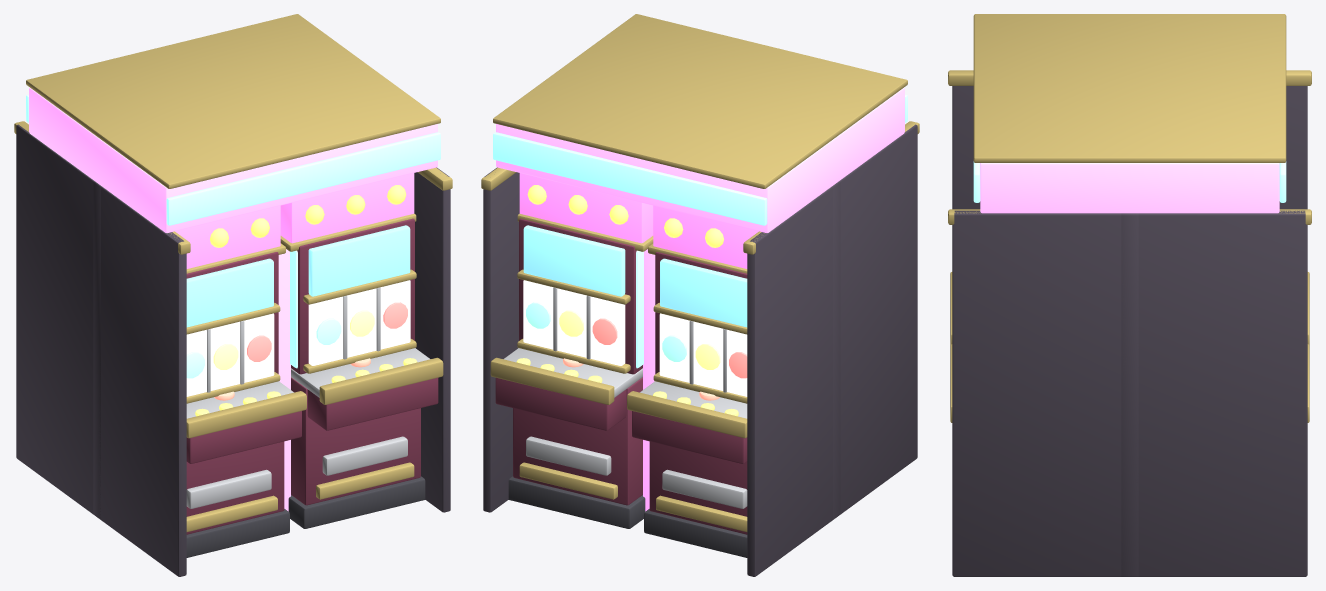
File: th14_automatenreihe.glb
3 views of the same model, side by side, from view 1: azimuth 30°, elevation 25°; view 2: azimuth 150°, elevation 25°; view 3: azimuth 270°, elevation 25° (orthographic). The views are drawn at different scales.
Parts seen in each view (by area): view 1: Cube.079, Cube.092, Cube.089, Cube.084, Cube.090, Cube.059, Cube.073, Cube.075, Cube.068, Cube.035, Cube.021, Cube.030 (+24 smaller); view 2: Cube.079, Cube.092, Cube.089, Cube.084, Cube.091, Cube.040, Cube.054, Cube.056, Cube.049, Cube.016, Cube.002, Cube.011 (+24 smaller); view 3: Cube.084, Cube.092, Cube.089, Cube, Cube.079, Cube.080.
Boxes of the visible parts, x1,y1,x2,y2 form: Cube.079: (16, 124, 186, 576); Cube.092: (26, 14, 440, 188); Cube.089: (29, 88, 437, 232); Cube.084: (414, 167, 450, 512); Cube.090: (166, 132, 440, 225); Cube.059: (291, 377, 420, 505); Cube.073: (308, 225, 410, 296); Cube.075: (280, 173, 414, 243); Cube.068: (308, 280, 410, 365); Cube.035: (186, 258, 273, 327); Cube.021: (186, 441, 284, 534); Cube.030: (186, 313, 274, 396); Cube.079: (747, 124, 917, 576); Cube.092: (493, 14, 907, 188); Cube.089: (496, 88, 904, 232); Cube.084: (483, 167, 519, 512); Cube.091: (493, 132, 767, 225); Cube.040: (513, 377, 642, 505); Cube.054: (523, 225, 625, 296); Cube.056: (519, 173, 653, 243); Cube.049: (523, 280, 625, 365); Cube.016: (660, 258, 747, 327); Cube.002: (649, 441, 747, 534); Cube.011: (659, 313, 747, 396); Cube.084: (952, 210, 1307, 576); Cube.092: (973, 14, 1286, 162); Cube.089: (980, 163, 1279, 213); Cube: (1121, 213, 1138, 576); Cube.079: (952, 86, 1307, 209); Cube.080: (948, 70, 1311, 85).
Size of the model in its own units: 1.6 by 2.17 by 1.7.
